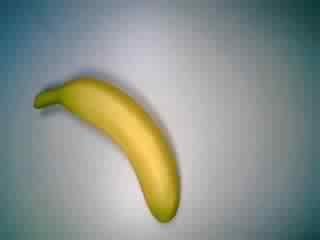banana: (32, 75, 184, 222)
